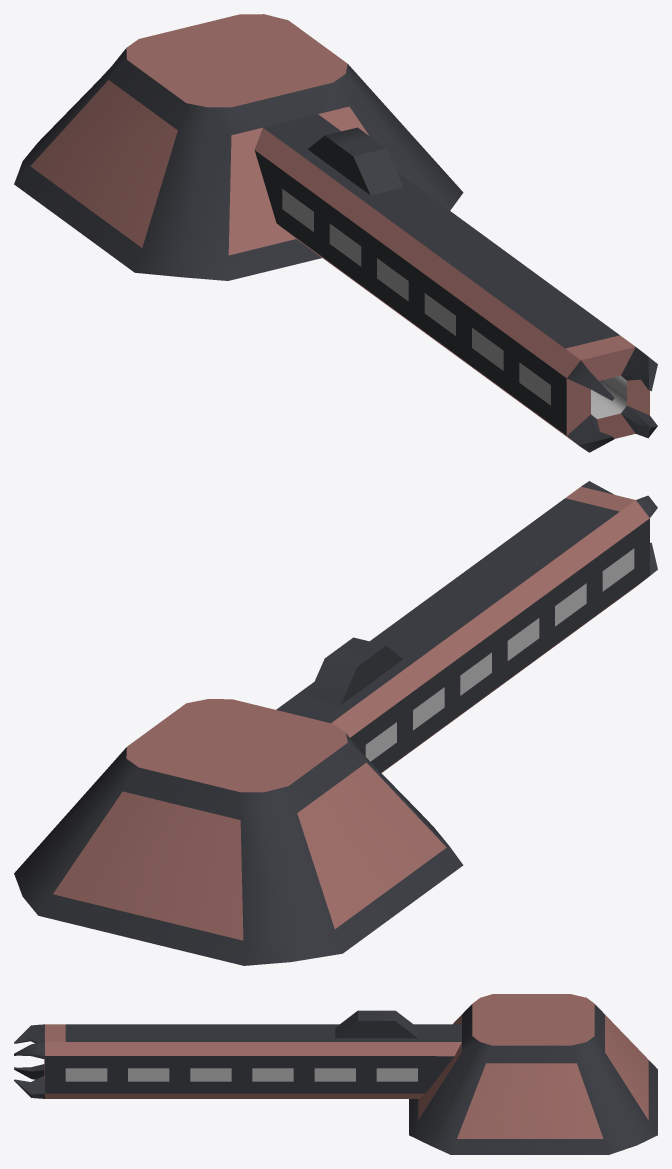
The model's file is risky business.fbx.
3 renders of one model, top to bottom at view 1: azimuth 30°, elevation 25°; view 2: azimuth 150°, elevation 25°; view 3: azimuth 270°, elevation 25°, orthographic. The views are drawn at different scales.
Parts seen in each view (by area): view 1: pCube30; view 2: pCube30; view 3: pCube30.
Part boxes in pixels (x1,y1,x2,y2): pCube30: (14,14,657,452); pCube30: (14,481,657,965); pCube30: (14,994,657,1154).
Bounding box in the file's own units: 436 × 167 × 1129.
